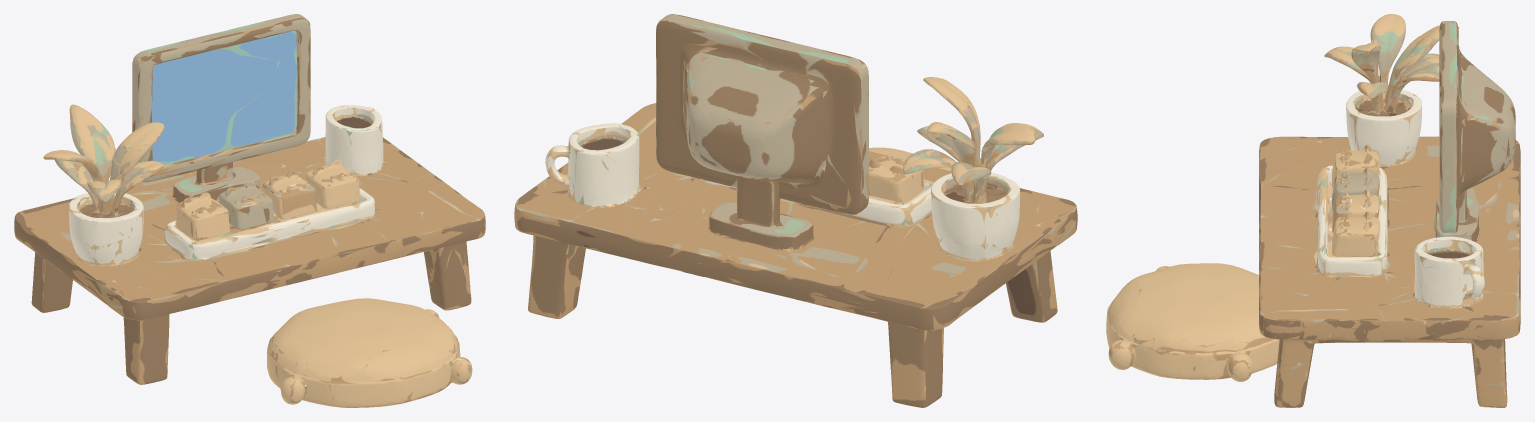
The model's file is low-monitor-cat-keycap-workstation-flat-source-v4.glb.
The picture shows the model from 3 angles, left to right: view 1: azimuth 30°, elevation 25°; view 2: azimuth 150°, elevation 25°; view 3: azimuth 270°, elevation 25°; orthographic projection. The views are drawn at different scales.
Visible parts, largest first — view 1: low-monitor-cat-keycap-workstation-flat-source-v4; view 2: low-monitor-cat-keycap-workstation-flat-source-v4; view 3: low-monitor-cat-keycap-workstation-flat-source-v4.
Boxes of the visible parts, box(x1,y1,x2,y2) form: low-monitor-cat-keycap-workstation-flat-source-v4: box(14, 14, 485, 407); low-monitor-cat-keycap-workstation-flat-source-v4: box(514, 14, 1077, 407); low-monitor-cat-keycap-workstation-flat-source-v4: box(1106, 14, 1520, 407).
Bounding box in the file's own units: 1.9 × 1.21 × 1.7.
1 material, 1 textured.
